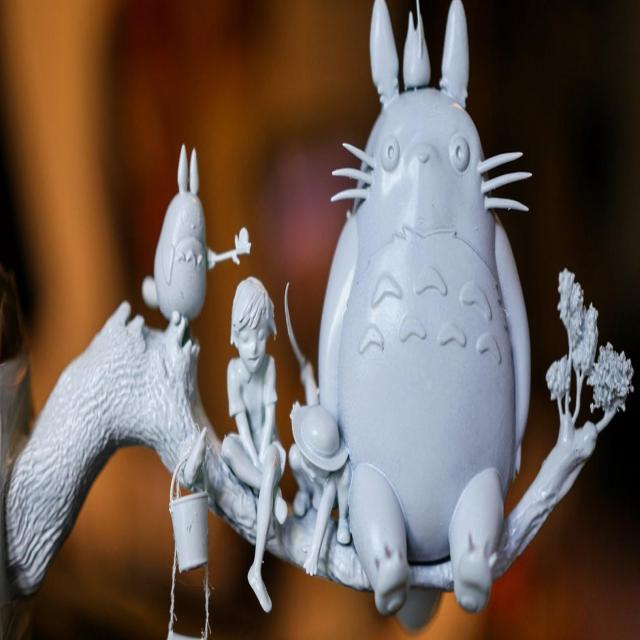Without deffect: (4, 2, 640, 640)
